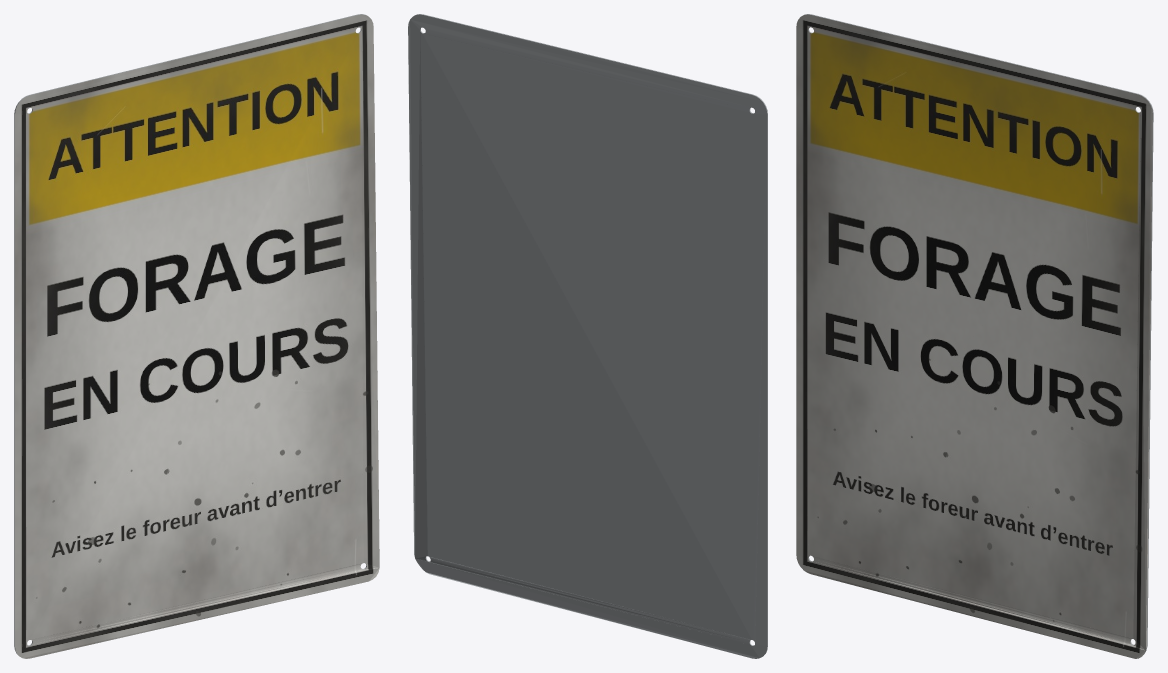
Rendered from SM_Affiche_Forage_En_Cours.glb.
3 renders of one model, left to right at view 1: azimuth 30°, elevation 25°; view 2: azimuth 150°, elevation 25°; view 3: azimuth 330°, elevation 25°, orthographic.
Parts seen in each view (by area): view 1: SM_Affiche_Forage_En_Cours; view 2: SM_Affiche_Forage_En_Cours; view 3: SM_Affiche_Forage_En_Cours.
Boxes of the visible parts, box(x1,y1,x2,y2) form: SM_Affiche_Forage_En_Cours: box(14, 14, 379, 658); SM_Affiche_Forage_En_Cours: box(408, 14, 767, 658); SM_Affiche_Forage_En_Cours: box(796, 14, 1153, 658).
Bounding box in the file's own units: 0.3048 × 0.4572 × 0.0118.
Materials: 2 (1 with a texture image).
